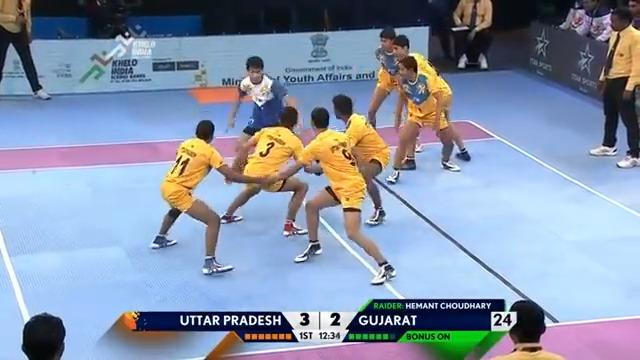Player: (272, 105, 398, 287), (148, 116, 277, 277), (384, 54, 464, 183), (331, 89, 391, 200), (371, 32, 401, 131)
Raider: (231, 57, 293, 126)
referee: (588, 7, 639, 168), (0, 0, 51, 100), (488, 299, 566, 359), (450, 0, 494, 70), (20, 311, 66, 359)
